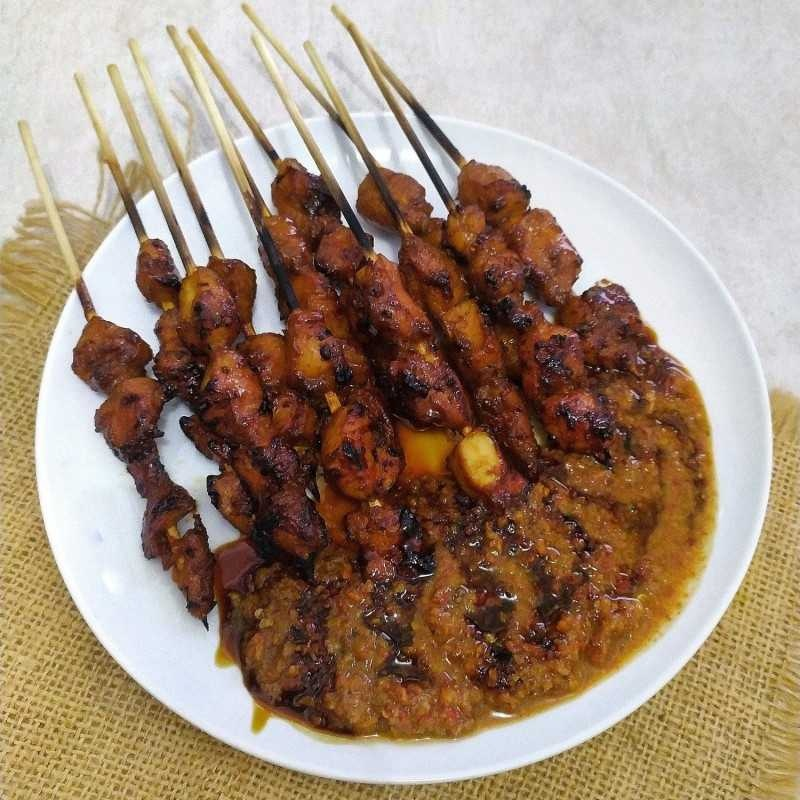sate: (36, 157, 668, 687)
